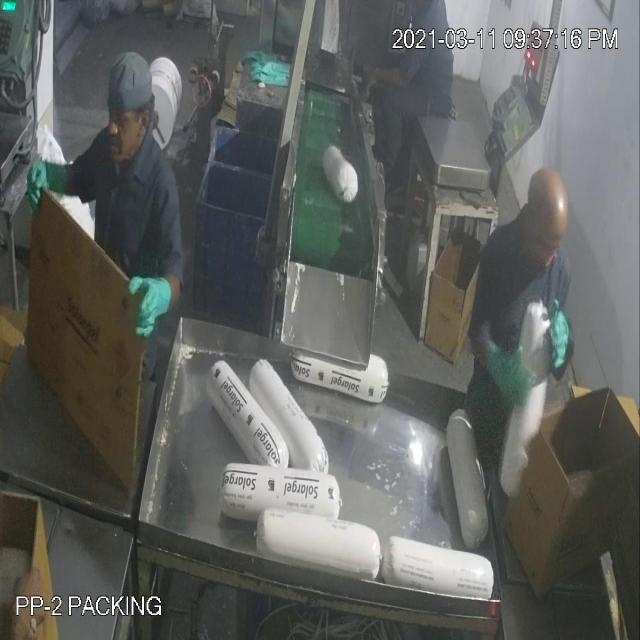gloves: (20, 145, 86, 226), (131, 255, 173, 359)
